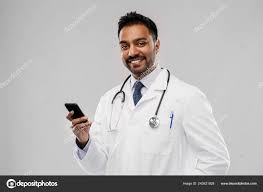Indian_Male: (114, 23, 160, 79)
